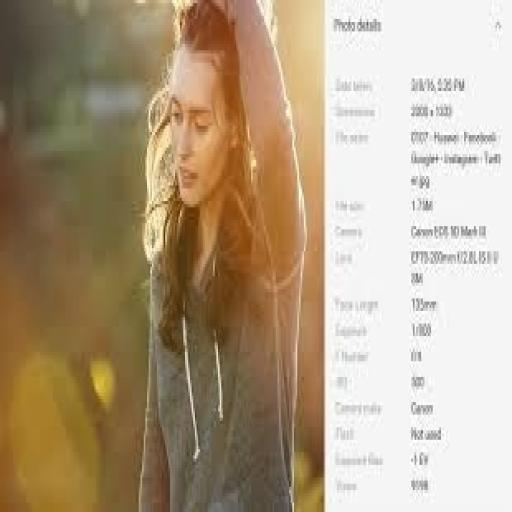texting: (135, 0, 309, 509)
